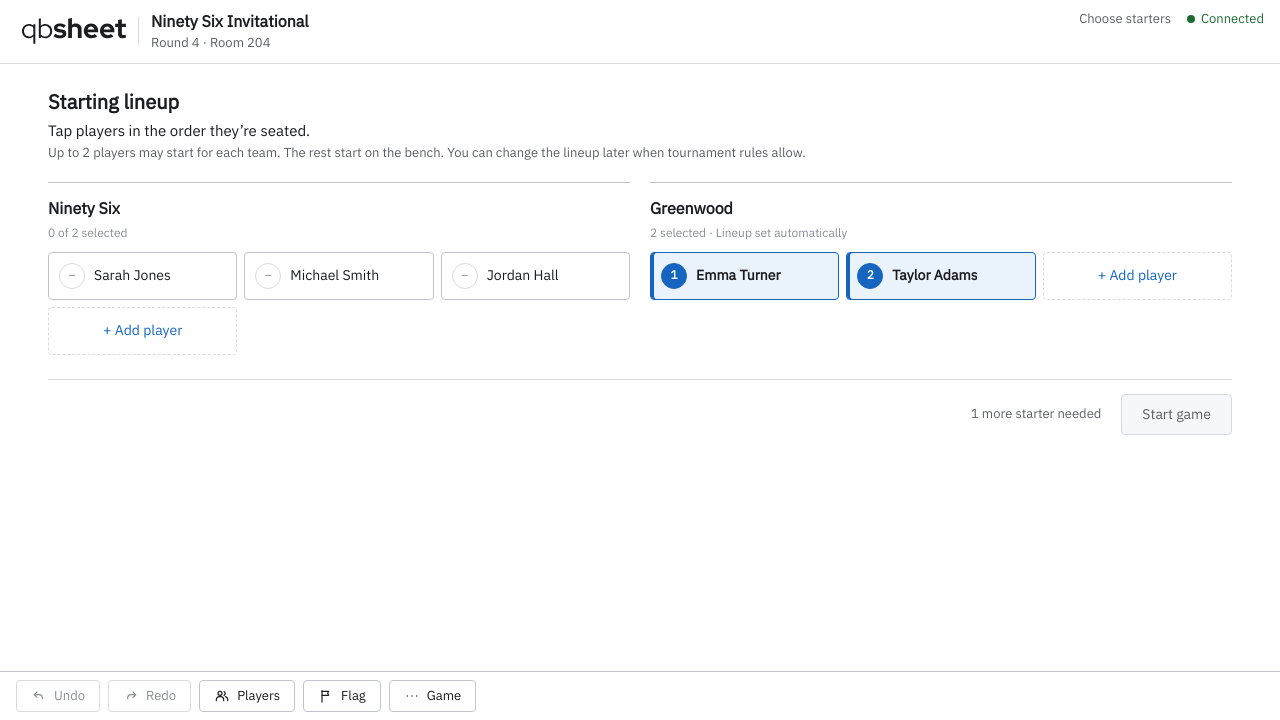
Scenario: who is starting › selecting assigns order 1..N, and deselecting closes the order
The width and height of the screenshot is (1280, 720).
Click the button with aria-label "Start Michael Smith". click: (339, 276)
box: x1=244 y1=252 x2=434 y2=300
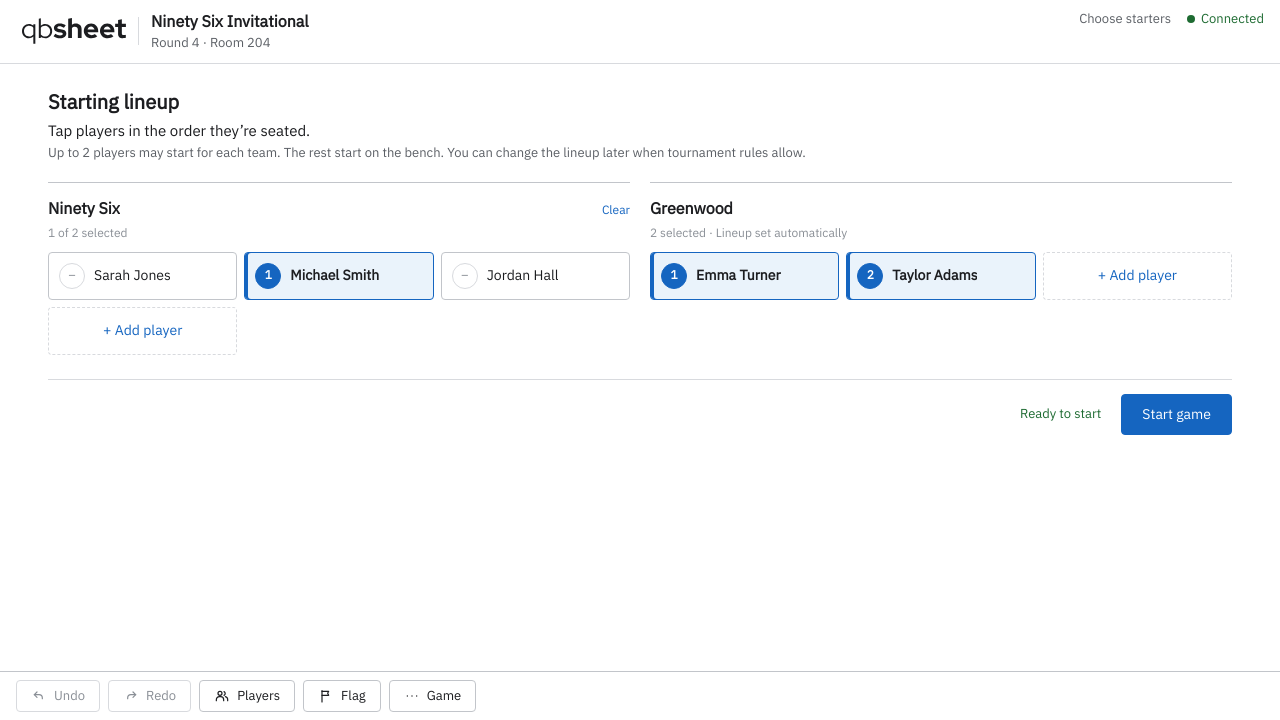
Click the button with aria-label "Start Jordan Hall". click: (535, 276)
box: x1=441 y1=252 x2=630 y2=300
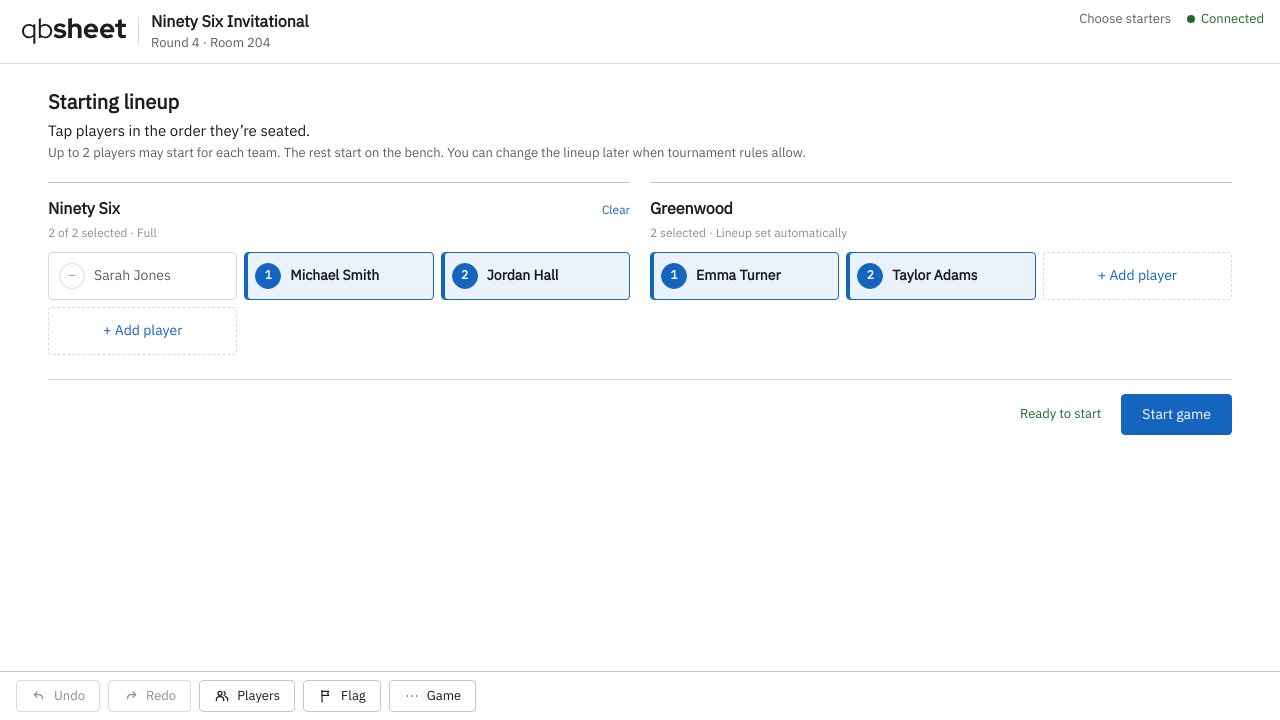
Expected: the button with aria-label "Bench Michael Smith" is pressed
Click the button with aria-label "Bench Michael Smith". click: (339, 276)
box: x1=244 y1=252 x2=434 y2=300
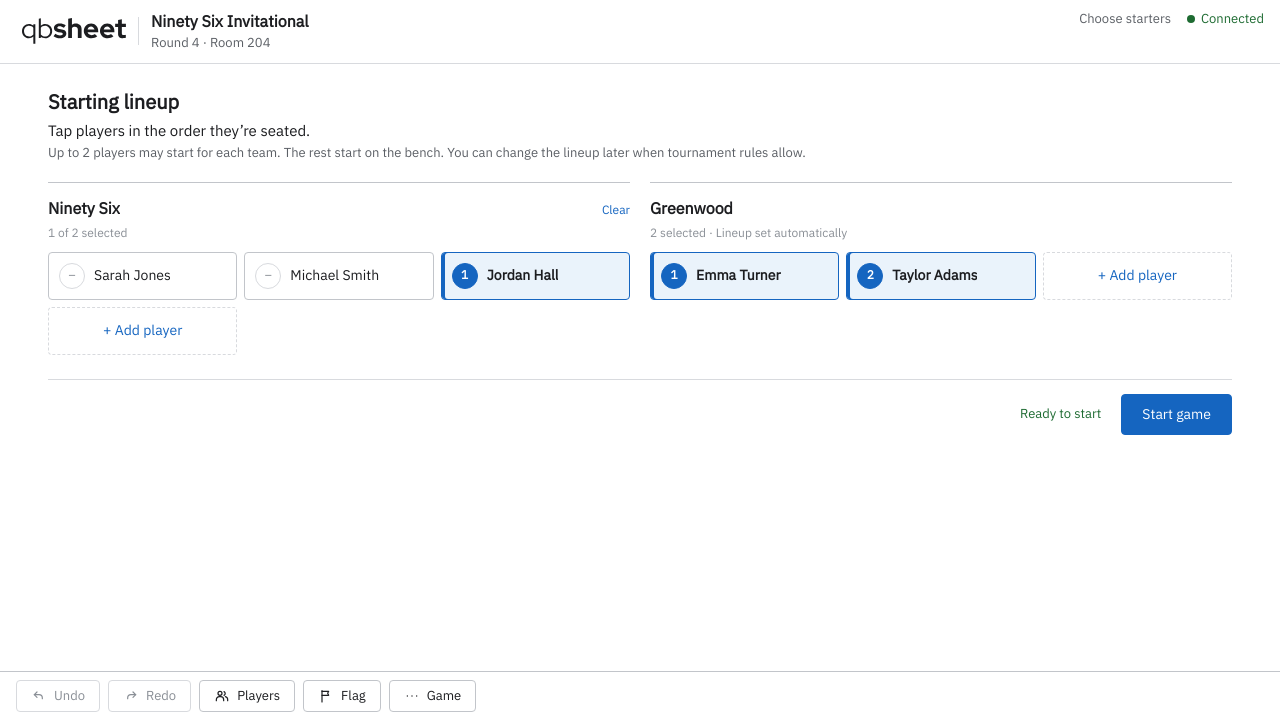
Expected: the button with aria-label "Start Michael Smith" is shown, x1=244 y1=252 x2=434 y2=300
